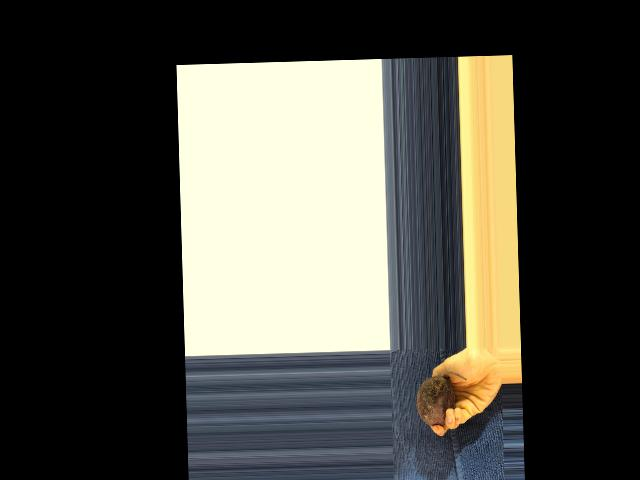beet: (416, 370, 468, 426)
